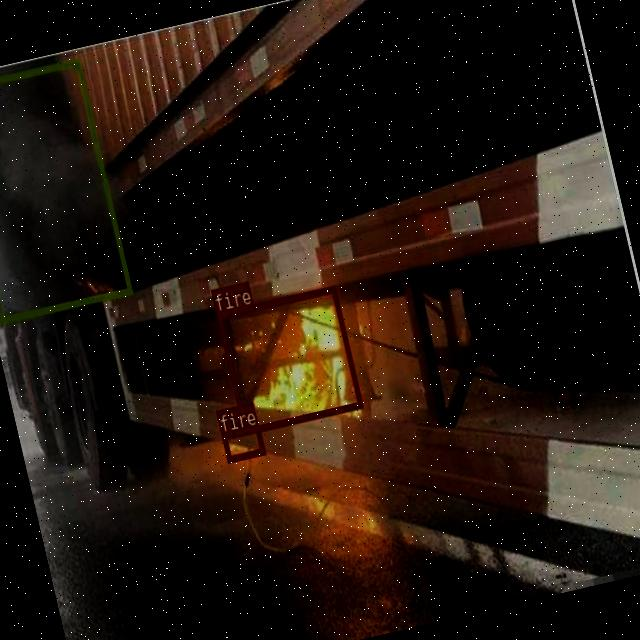fire: (215, 284, 362, 433), (220, 424, 264, 462)
smoke: (0, 57, 131, 322)
